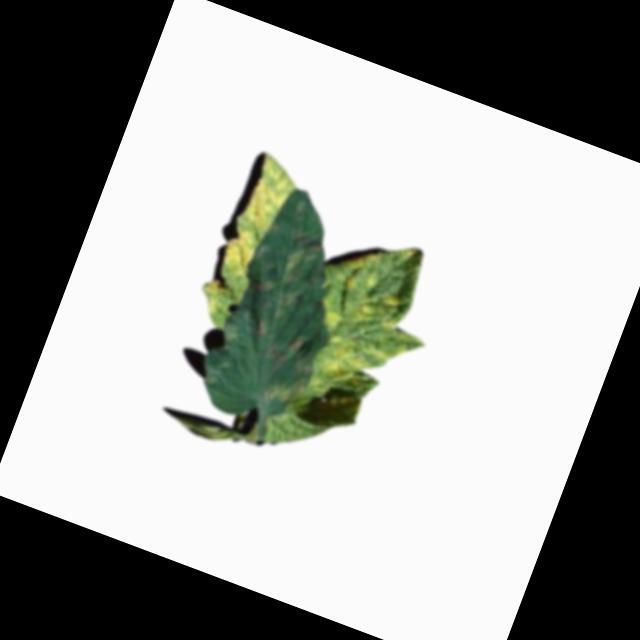Leaf_Mold: (280, 216, 457, 422), (221, 194, 368, 412), (194, 148, 303, 327)
